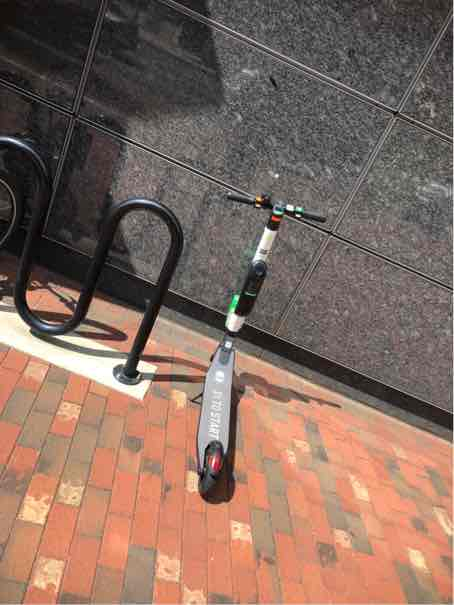scooter: (194, 188, 333, 520)
